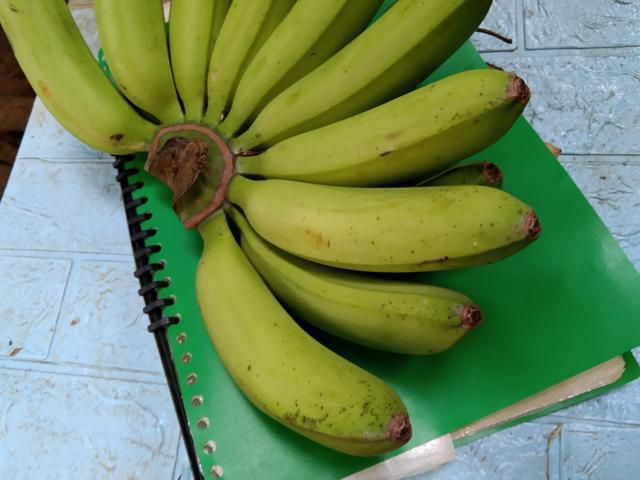freshunripe: (191, 239, 417, 462), (233, 0, 503, 149), (229, 226, 484, 374), (244, 164, 543, 290), (260, 61, 542, 191), (0, 0, 159, 155), (97, 0, 186, 134)
